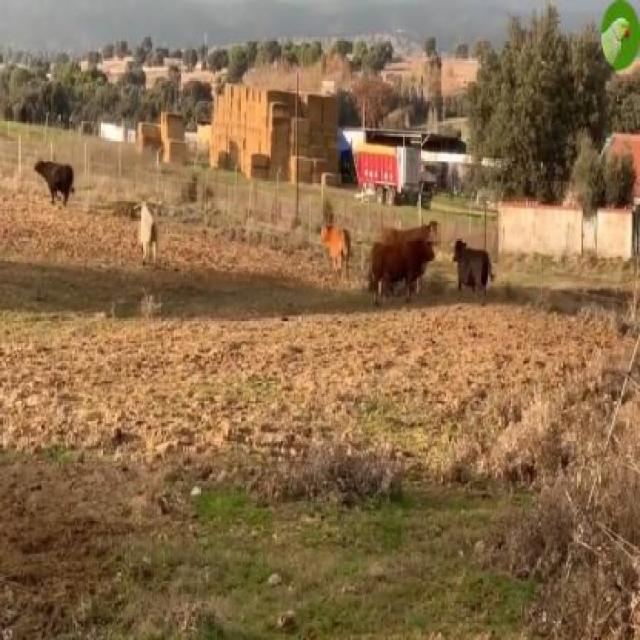Cow: (371, 237, 435, 300)
